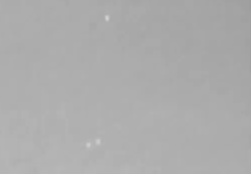Target: (88, 16, 109, 146)
